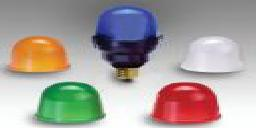LED: (90, 7, 160, 85), (32, 81, 108, 124), (152, 81, 220, 128), (181, 34, 240, 79), (9, 37, 72, 78)
